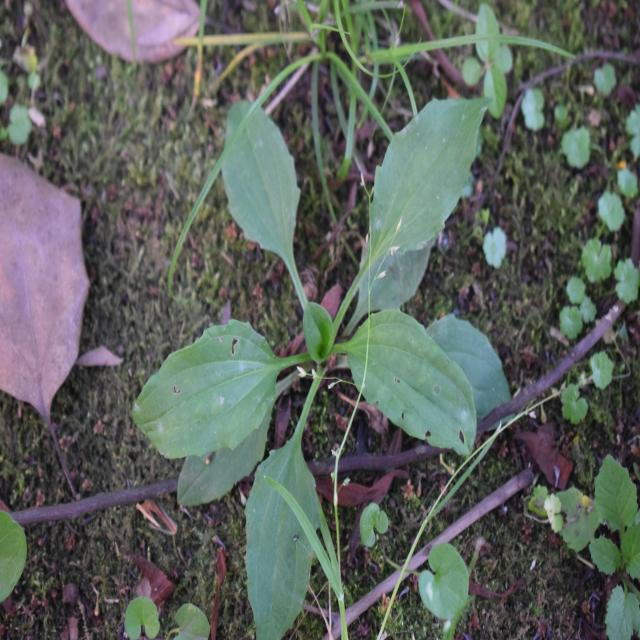plantain: (152, 70, 472, 542)
